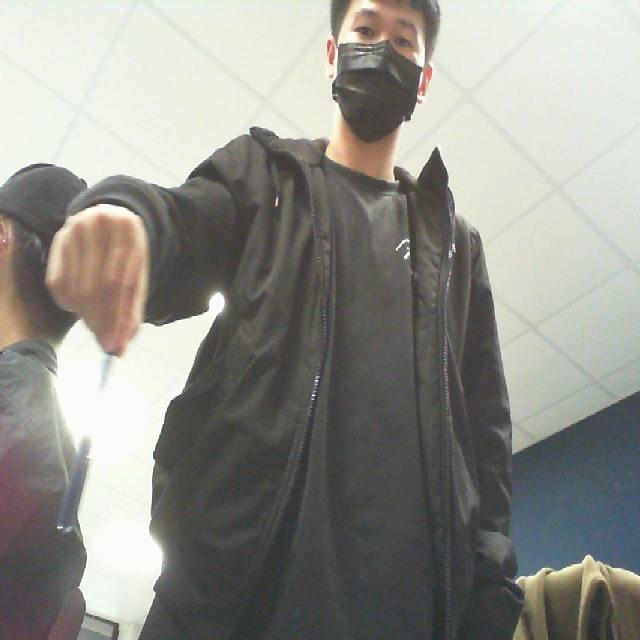Pen: (47, 342, 127, 542)
